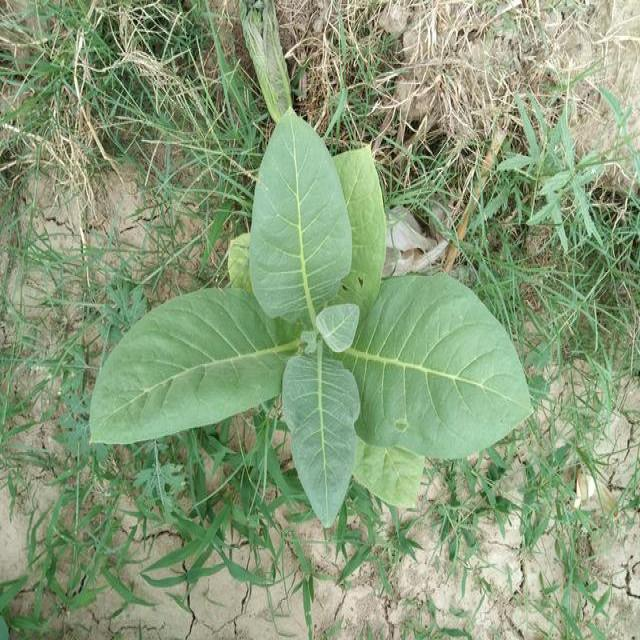crop: (83, 95, 541, 534)
